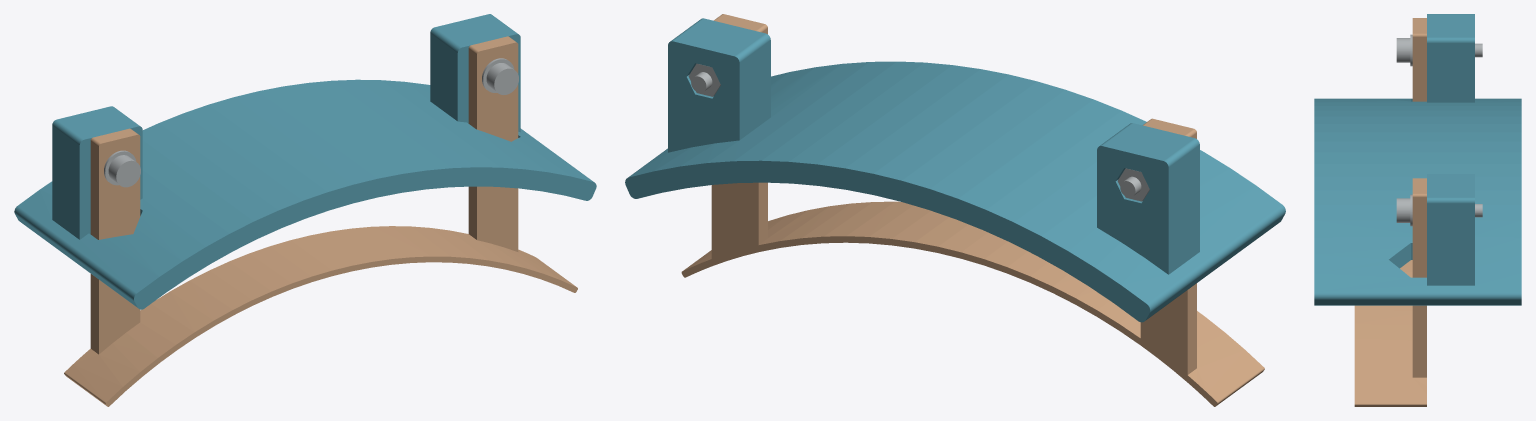
Rendered from R07_ASSIEME_CON_FERRAMENTA_SCHEMATICA.glb.
3 views of the same model, side by side, from view 1: azimuth 30°, elevation 25°; view 2: azimuth 150°, elevation 25°; view 3: azimuth 270°, elevation 25° (orthographic). The views are drawn at different scales.
Visible parts, largest first — view 1: base_grezza, ponte_terminale, vite_M3x16_2, vite_M3x16_1; view 2: base_grezza, ponte_terminale; view 3: base_grezza, ponte_terminale, vite_M3x16_1, vite_M3x16_2.
Part boxes in pixels (x1,y1,x2,y2): base_grezza: (14,14,596,309); ponte_terminale: (64,36,577,406); vite_M3x16_2: (486,63,518,94); vite_M3x16_1: (108,155,140,187); base_grezza: (625,18,1285,322); ponte_terminale: (681,14,1264,406); base_grezza: (1314,14,1521,305); ponte_terminale: (1354,18,1426,406); vite_M3x16_1: (1396,38,1482,62); vite_M3x16_2: (1396,198,1482,222).
Bounding box in the file's own units: 0.105 × 0.0494 × 0.046.
